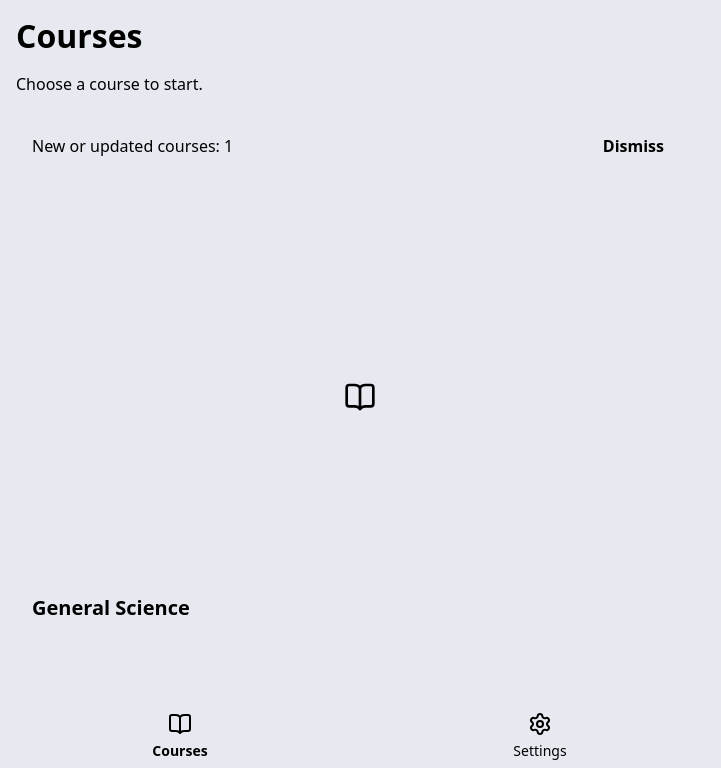
Test: home routes inside the Shell › tapping a course card opens the course with its four tiles, and Courses stays highlighted
What coordinates should you click on to do the following:
click the button "General Science"
I would click on:
 (360, 612)
Its box is [16,196,704,639].
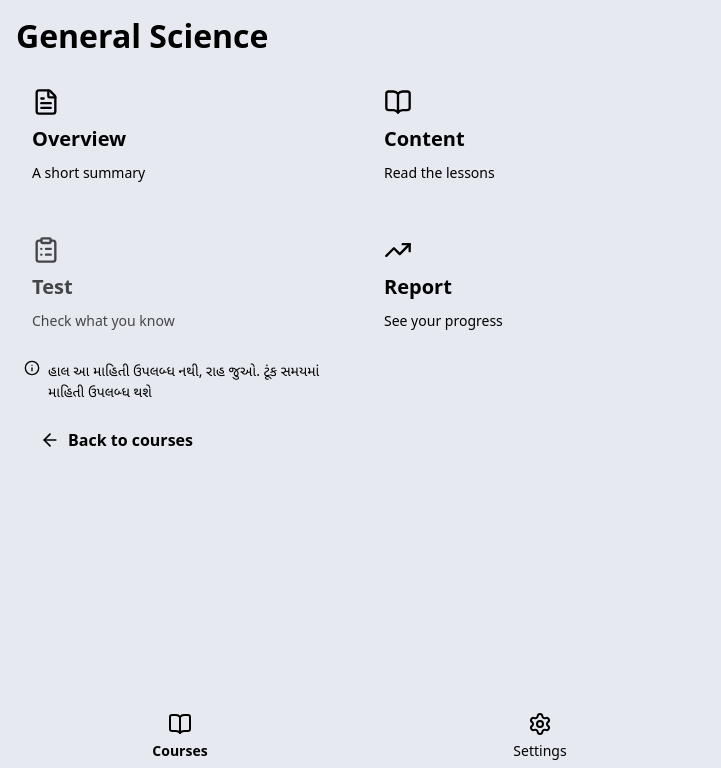
Now the heading "General Science" is shown, box [16,14,268,57]
Now the text "Overview" is shown, box [32,124,126,154]
Now the text "Content" is shown, box [384,124,465,154]
